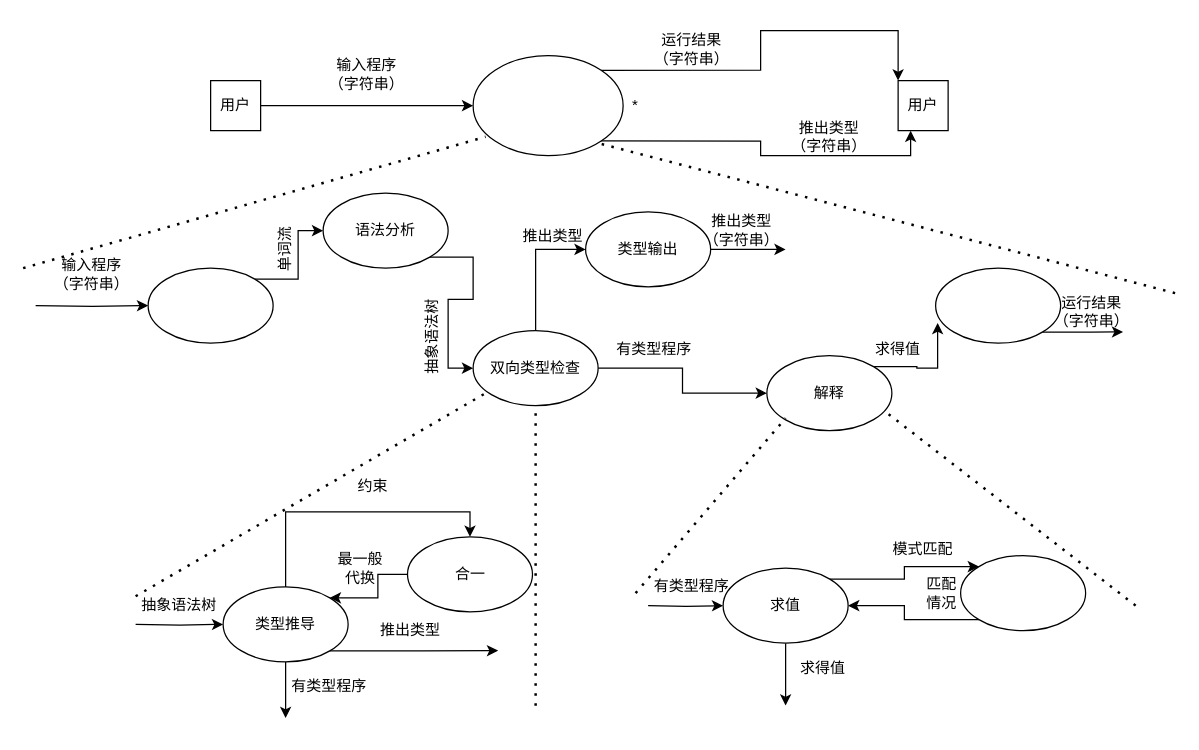
The diagram is 1199 pixels wide and 750 high, and some of its shapes have lost their labels. The shapes that lost their labels are listed below. From the top down, each one's centre as x and y in pixels, then its label:
the point at 547,105: Merde 语言解释器
the point at 210,305: 词法分析
the point at 997,305: 值输出
the point at 1022,592: 模式匹配求值器
